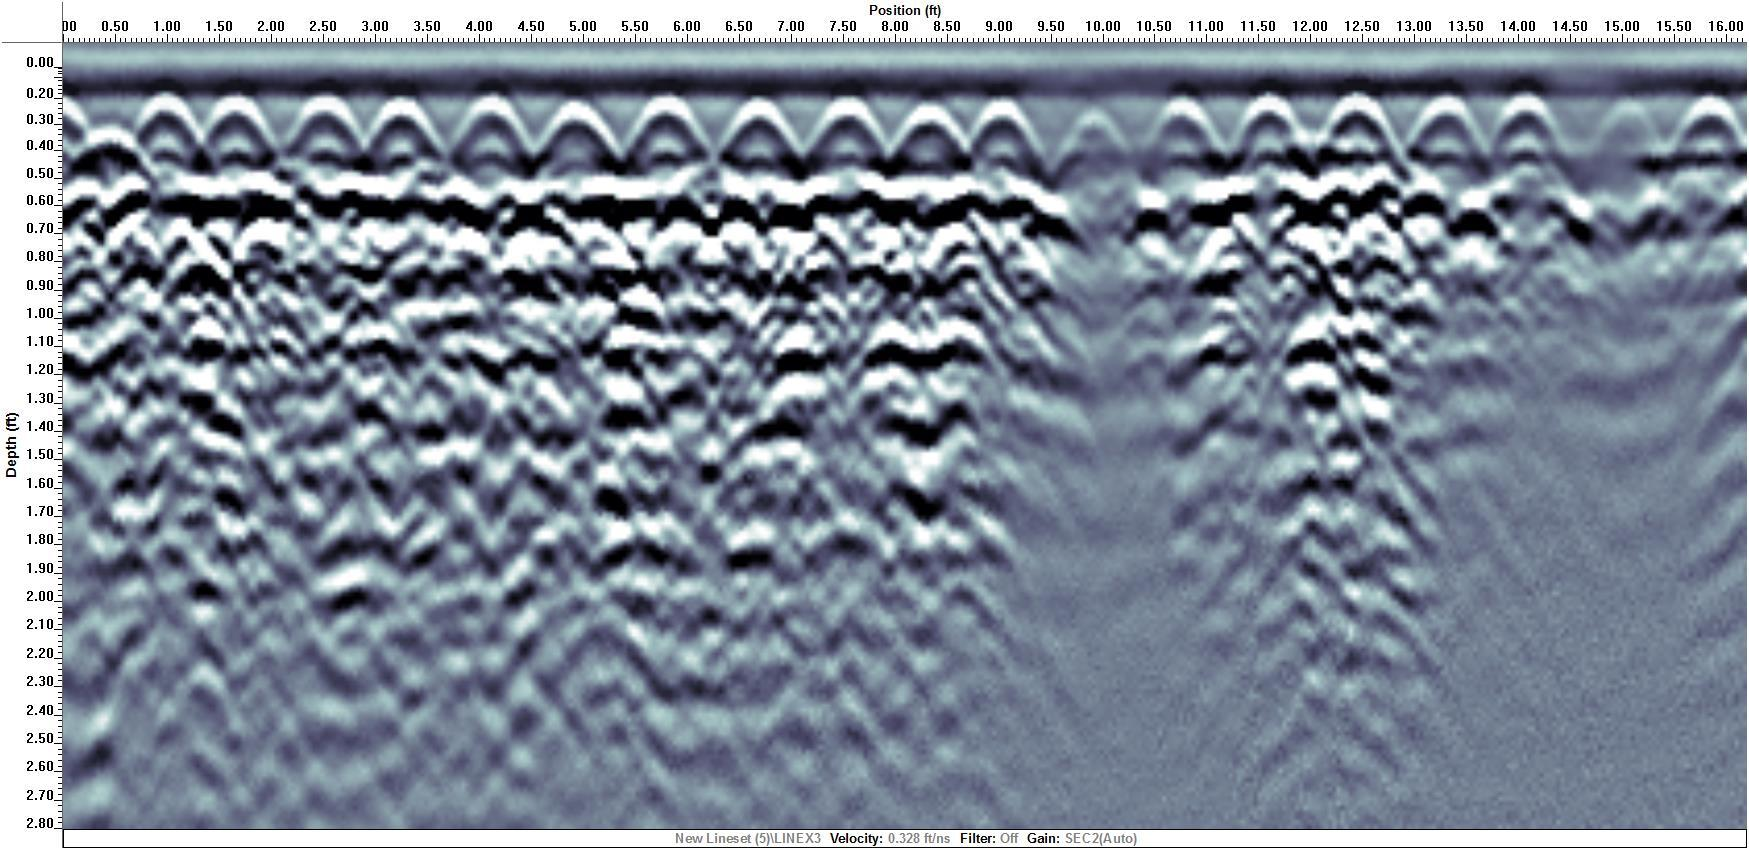hyperbola: (1215, 93, 1323, 170), (616, 89, 722, 167), (1307, 90, 1411, 170), (436, 91, 541, 170), (522, 93, 630, 166), (272, 93, 377, 168), (201, 84, 291, 170), (796, 95, 898, 170), (125, 89, 222, 167), (965, 91, 1053, 177), (1400, 90, 1488, 173), (887, 89, 970, 175), (1656, 89, 1749, 165), (358, 93, 448, 170), (715, 94, 808, 167), (1482, 91, 1567, 164)
